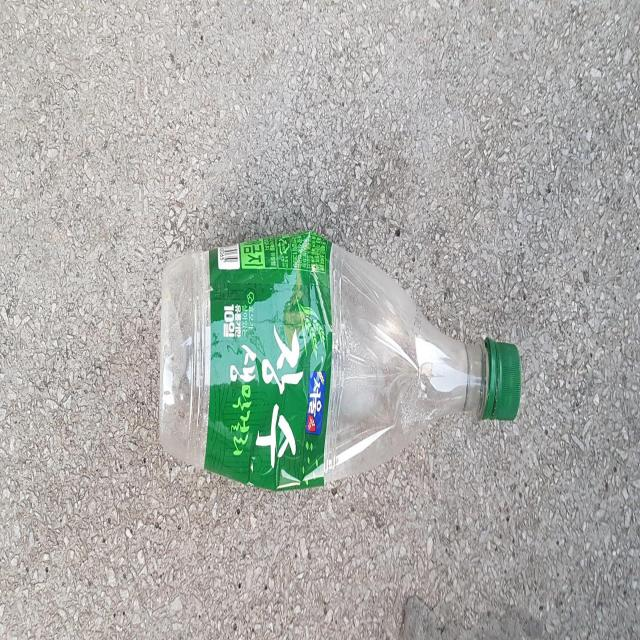plastic: (159, 231, 522, 490)
